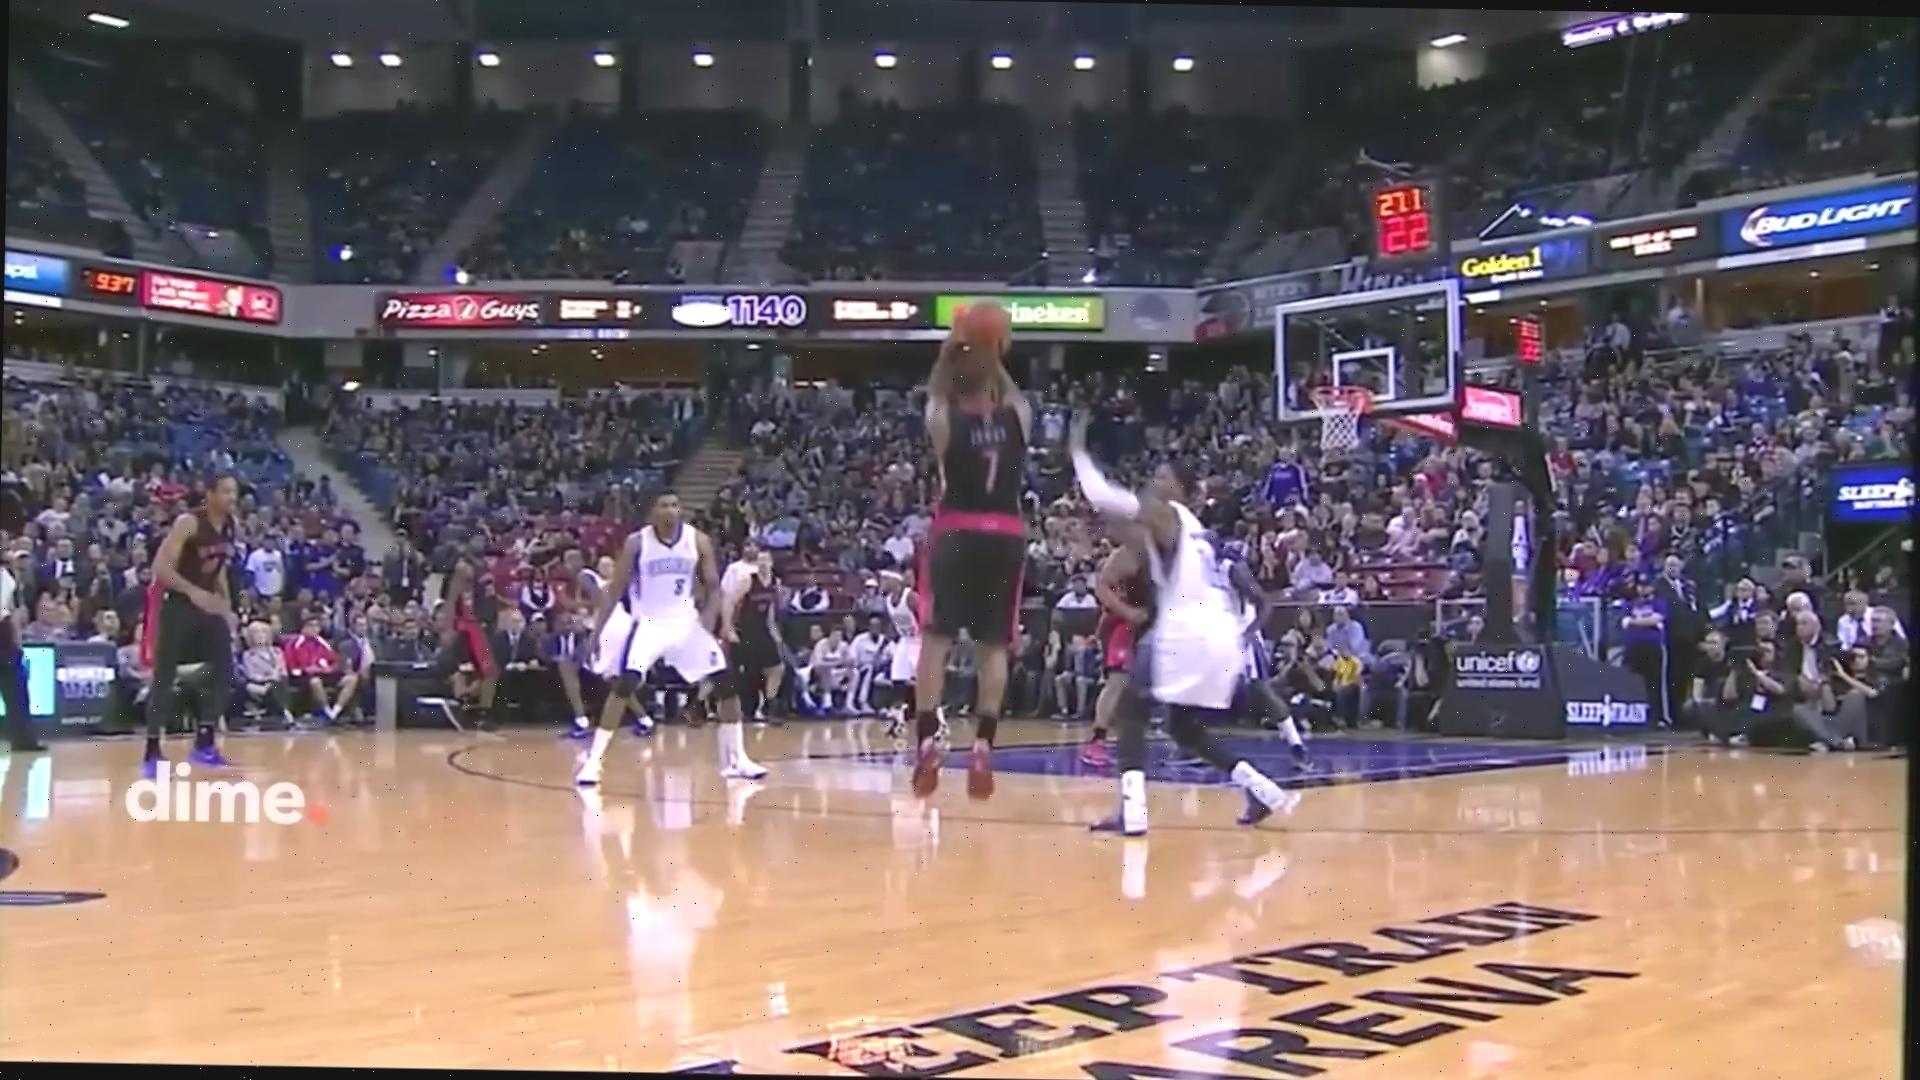no_foul: (893, 360, 1291, 843)
